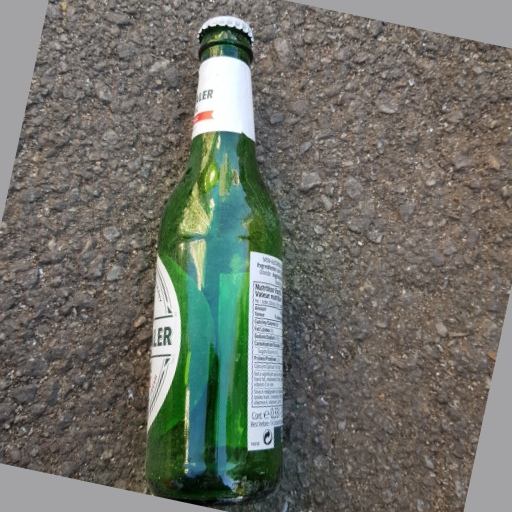Glass_1: (136, 14, 294, 504)
